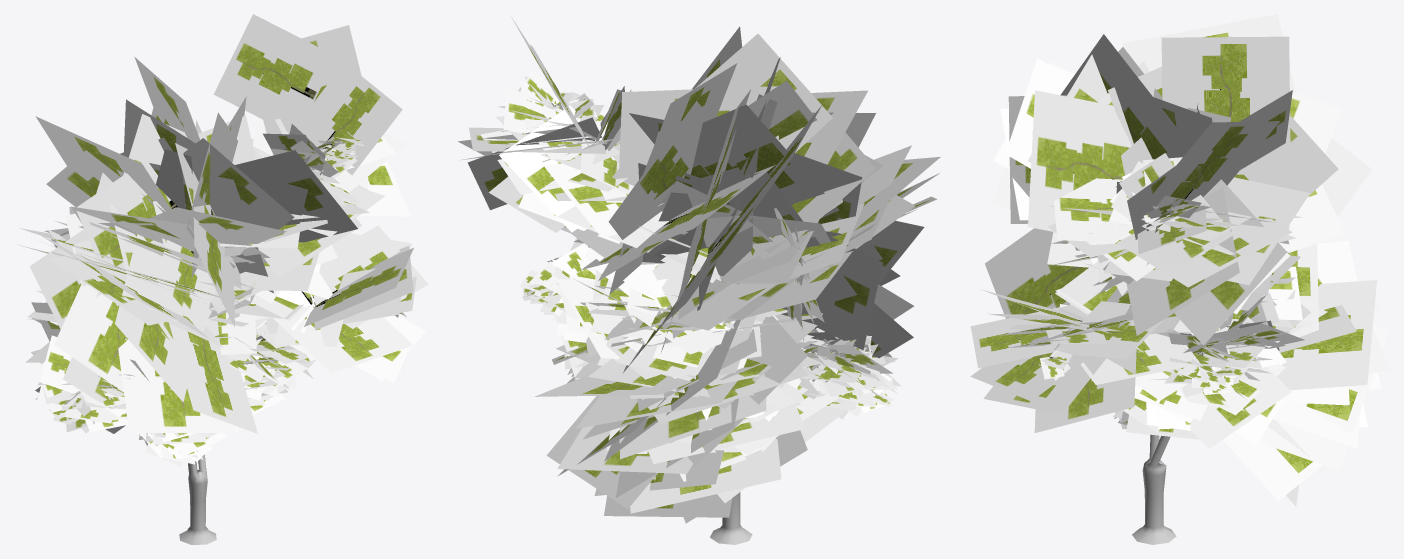
File: EBANO ORNAMENTAL_INTEGRADO_V01.fbx
The picture shows the model from 3 angles, left to right: view 1: azimuth 30°, elevation 25°; view 2: azimuth 150°, elevation 25°; view 3: azimuth 270°, elevation 25°; orthographic projection. The views are drawn at different scales.
Parts seen in each view (by area): view 1: Ebanoornamental_LOD0; view 2: Ebanoornamental_LOD0; view 3: Ebanoornamental_LOD0.
Part boxes in pixels (x1=…): Ebanoornamental_LOD0: x1=19, y1=14, x2=428, y2=544; Ebanoornamental_LOD0: x1=458, y1=17, x2=940, y2=544; Ebanoornamental_LOD0: x1=970, y1=14, x2=1389, y2=544.
Size of what is drawn, in the model's own units: 3.34 by 3.66 by 2.73.
